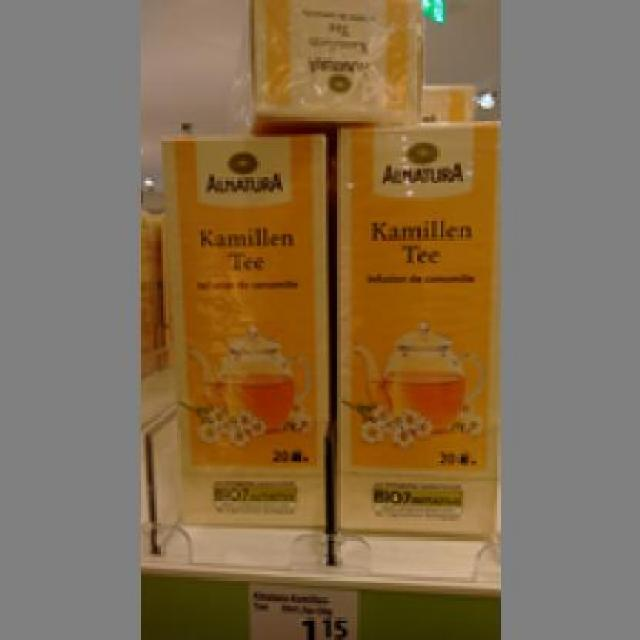Tea: (156, 128, 330, 532), (328, 117, 494, 534)
